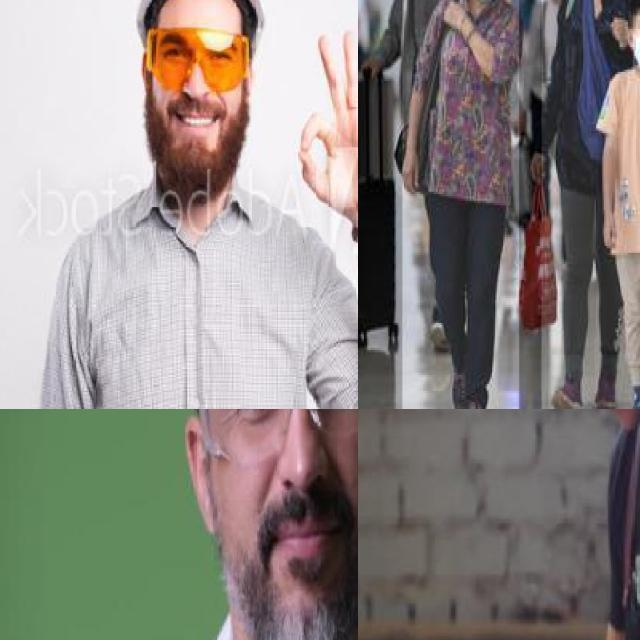face_mask: (632, 15, 640, 69)
face_nomask: (197, 409, 358, 587), (154, 36, 243, 142)
glasses: (194, 409, 358, 473), (144, 23, 255, 92)
hand_noglove: (292, 30, 358, 230), (390, 143, 430, 200), (594, 203, 627, 257), (524, 142, 551, 187), (358, 48, 386, 86)
head_helmet: (127, 0, 268, 26)
head_nohelmet: (626, 0, 640, 28)
person: (41, 0, 358, 409), (37, 409, 358, 640), (402, 0, 520, 409), (541, 0, 640, 409), (534, 409, 640, 640), (599, 0, 640, 409)
shoes: (549, 371, 589, 409), (592, 376, 618, 409), (458, 391, 498, 409)
